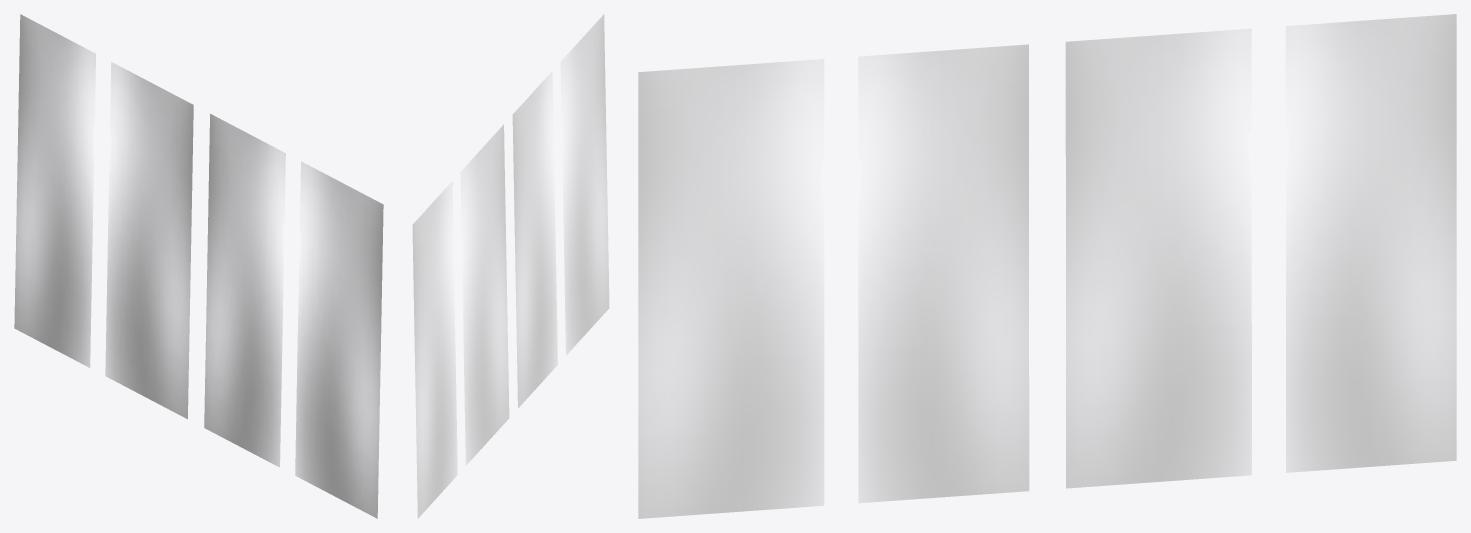
Rendered from fridge1_fridgeglass_0.002_lev2.glb.
3 renders of one model, left to right at view 1: azimuth 30°, elevation 25°; view 2: azimuth 150°, elevation 25°; view 3: azimuth 270°, elevation 25°, orthographic. The views are drawn at different scales.
Visible parts, largest first — view 1: fridge1_fridgeglass_0.002_lev2; view 2: fridge1_fridgeglass_0.002_lev2; view 3: fridge1_fridgeglass_0.002_lev2.
Boxes of the visible parts, left/top/right/bottom form: fridge1_fridgeglass_0.002_lev2: left=14, top=14, right=383, bottom=518; fridge1_fridgeglass_0.002_lev2: left=412, top=14, right=609, bottom=518; fridge1_fridgeglass_0.002_lev2: left=638, top=14, right=1456, bottom=518.
Size of the model in its own units: 1.85 by 6.54 by 10.69.
1 material, 1 textured.
